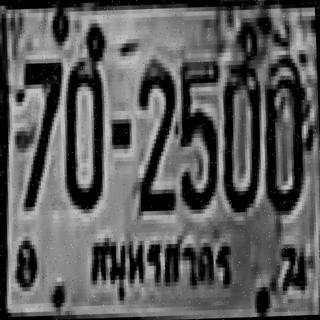N00: (259, 58, 309, 211), (61, 57, 108, 206), (217, 60, 262, 208)
N02: (133, 57, 176, 209)
N05: (175, 55, 222, 208)
N07: (17, 59, 64, 207)
P58: (85, 225, 240, 309)
